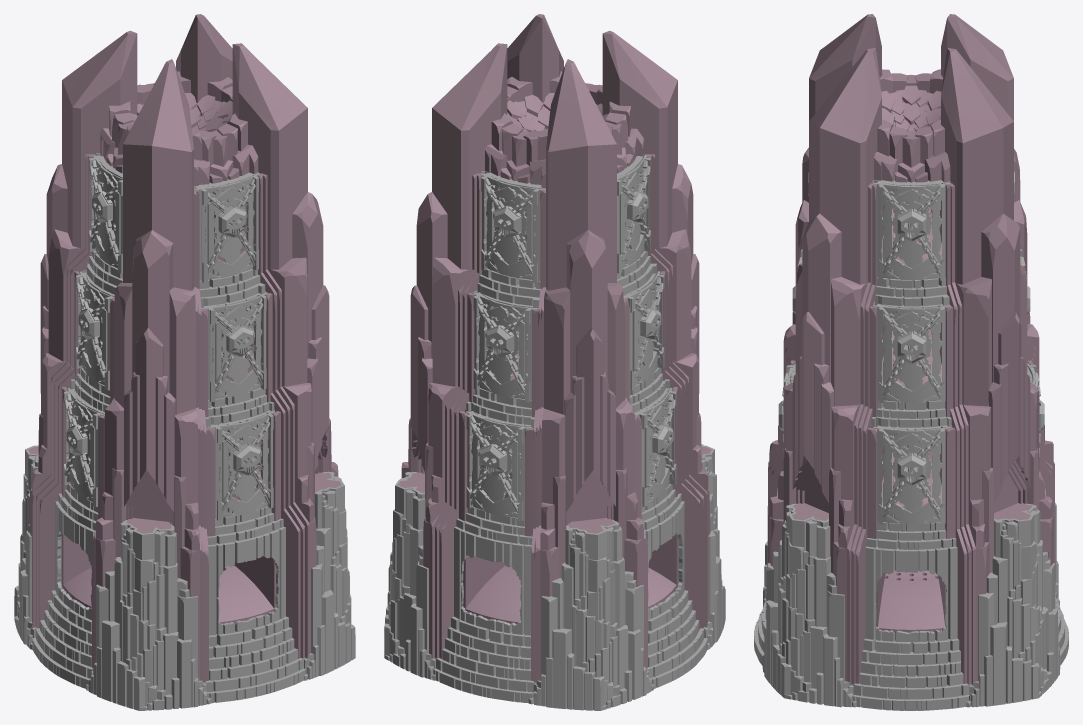
File: tower.glb
3 renders of one model, left to right at view 1: azimuth 30°, elevation 25°; view 2: azimuth 150°, elevation 25°; view 3: azimuth 270°, elevation 25°, orthographic.
Parts seen in each view (by area): view 1: Return to Dark Tower, seal_north_top, seal_north_middle, seal_north_bottom, seal_west_middle, seal_west_bottom, seal_west_top; view 2: Return to Dark Tower, seal_south_top, seal_south_bottom, seal_south_middle, seal_west_middle, seal_west_bottom, seal_west_top; view 3: Return to Dark Tower, seal_east_middle, seal_east_bottom, seal_east_top.
Part boxes in pixels (left/top/right/bottom): Return to Dark Tower: left=14, top=14, right=355, bottom=710; seal_north_top: left=194, top=173, right=260, bottom=282; seal_north_middle: left=201, top=292, right=267, bottom=401; seal_north_bottom: left=208, top=411, right=274, bottom=520; seal_west_middle: left=76, top=271, right=114, bottom=390; seal_west_bottom: left=64, top=388, right=104, bottom=506; seal_west_top: left=89, top=154, right=122, bottom=273; Return to Dark Tower: left=384, top=14, right=725, bottom=710; seal_south_top: left=480, top=173, right=545, bottom=282; seal_south_bottom: left=465, top=411, right=532, bottom=520; seal_south_middle: left=472, top=292, right=538, bottom=402; seal_west_middle: left=623, top=271, right=664, bottom=390; seal_west_bottom: left=634, top=388, right=676, bottom=506; seal_west_top: left=617, top=154, right=650, bottom=273; Return to Dark Tower: left=754, top=14, right=1068, bottom=710; seal_east_middle: left=873, top=303, right=950, bottom=402; seal_east_bottom: left=873, top=425, right=950, bottom=524; seal_east_top: left=873, top=181, right=950, bottom=280.
Size of the model in its own units: 13.99 by 30.08 by 13.99.
